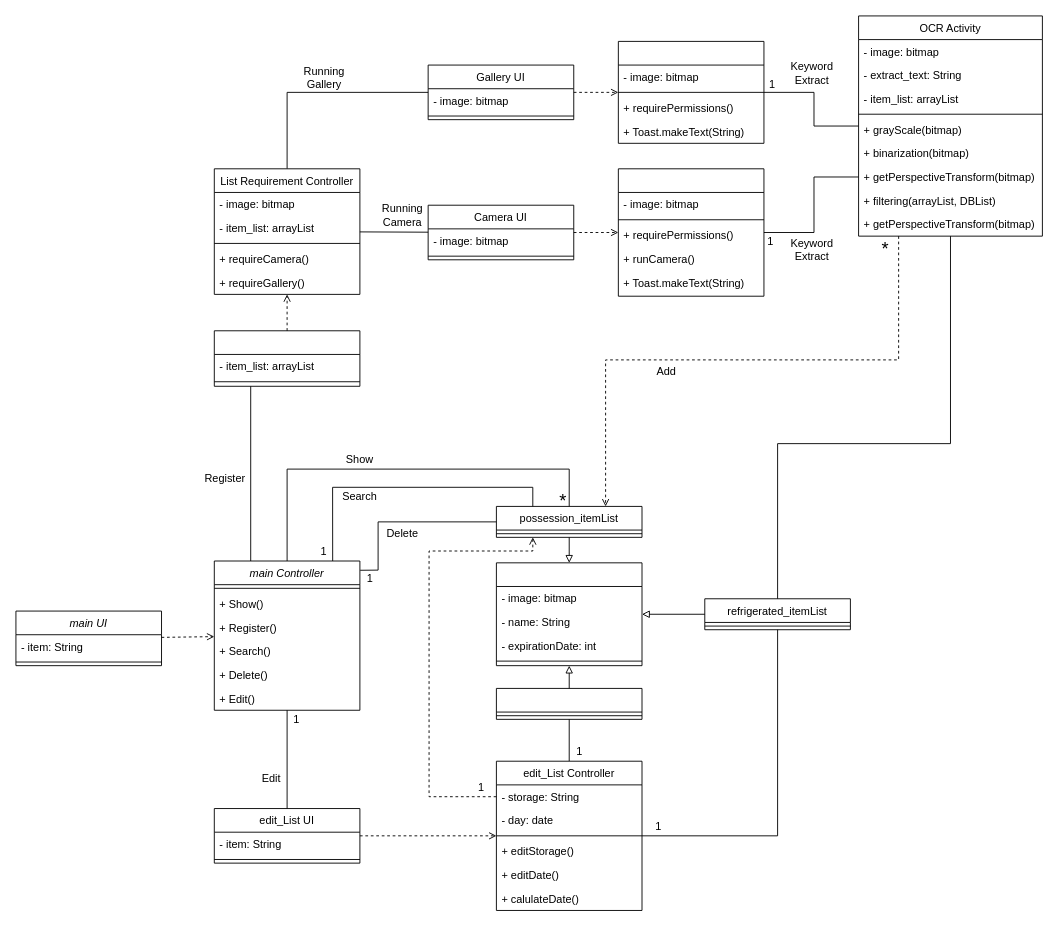
This 1058x929 diagram has some shape labels left out. The box of each missing label's shape, as (x1, y1, x2, y2) in pixels:
Camera Controller: (617, 168, 764, 296)
Gallery Controller: (617, 40, 764, 143)
item: (495, 562, 642, 666)
List Requirement UI: (213, 330, 360, 386)
roomTemperature_itemList: (495, 688, 642, 719)
